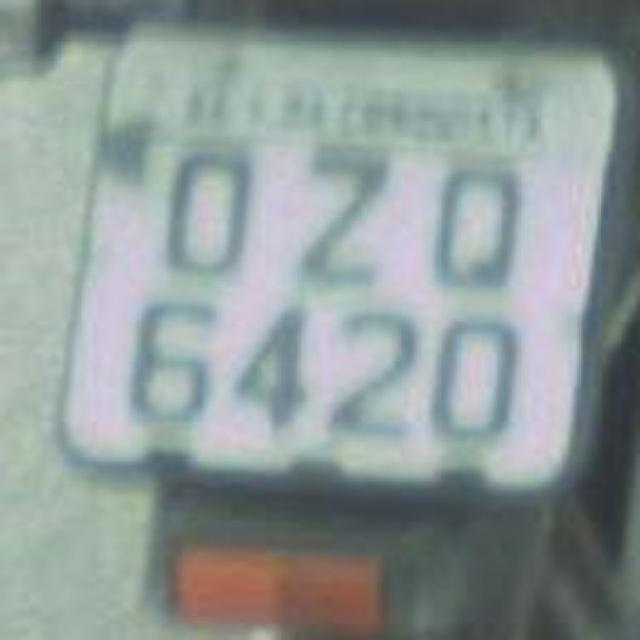0: (420, 280, 540, 452)
2: (300, 276, 445, 449)
4: (209, 272, 336, 448)
6: (108, 272, 240, 452)
O: (145, 125, 260, 300)
Z: (269, 132, 396, 292)
